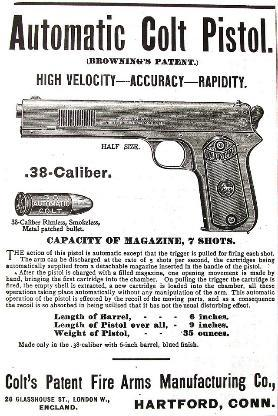pistol: (10, 88, 262, 238)
